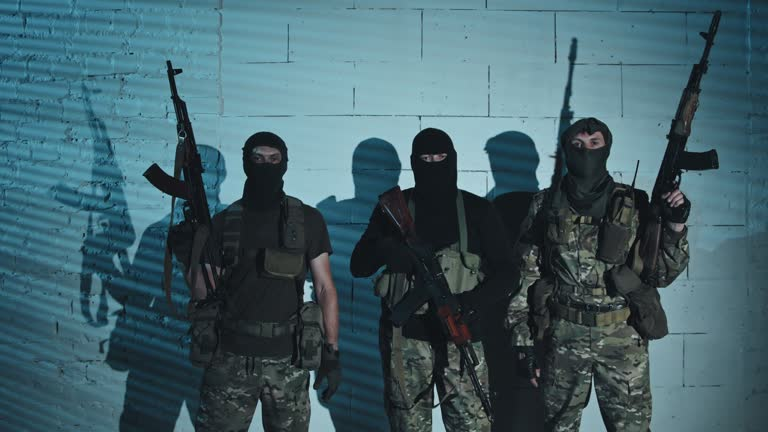terrorist: (128, 40, 338, 317), (520, 57, 708, 307), (363, 93, 503, 295)
